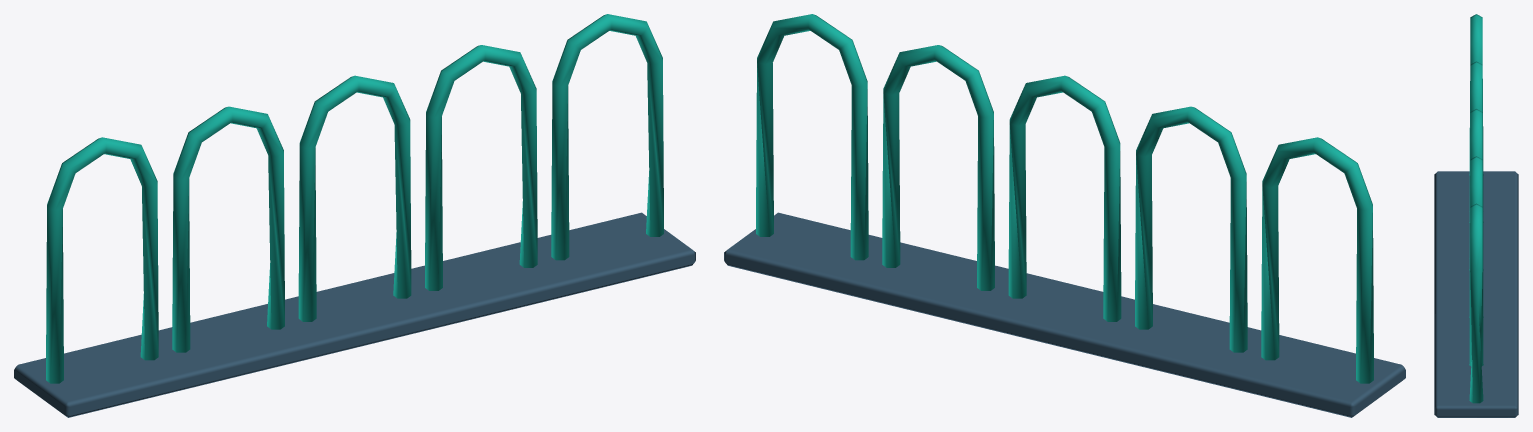
File: CM_Prop_BikeRack.fbx
3 renders of one model, left to right at view 1: azimuth 30°, elevation 25°; view 2: azimuth 150°, elevation 25°; view 3: azimuth 270°, elevation 25°, orthographic. The views are drawn at different scales.
Visible parts, largest first — view 1: Body; view 2: Body; view 3: Body.
Boxes of the visible parts, x1=… form: Body: x1=14, y1=14, x2=695, y2=417; Body: x1=724, y1=14, x2=1405, y2=417; Body: x1=1434, y1=14, x2=1518, y2=417.
Size of the model in its own units: 8 by 1.2 by 3.
1 material, 1 textured.
